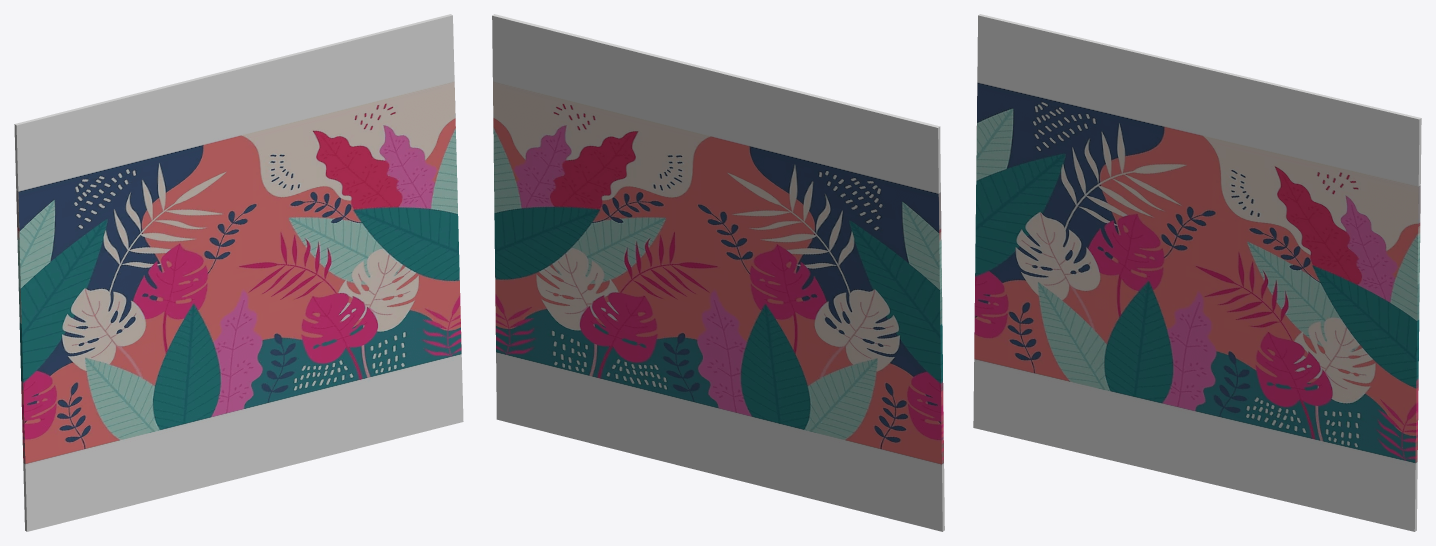
The picture shows the model from 3 angles, left to right: view 1: azimuth 30°, elevation 25°; view 2: azimuth 150°, elevation 25°; view 3: azimuth 330°, elevation 25°; orthographic projection. The views are drawn at different scales.
Visible parts, largest first — view 1: Mesh_0.011; view 2: Mesh_0.011; view 3: Mesh_0.011.
Boxes of the visible parts, bbox=[...] form: Mesh_0.011: bbox=[14, 14, 463, 531]; Mesh_0.011: bbox=[492, 14, 944, 531]; Mesh_0.011: bbox=[973, 14, 1421, 531].
Size of the model in its own units: 2.29 by 2.02 by 0.0879.
1 material, 1 textured.
